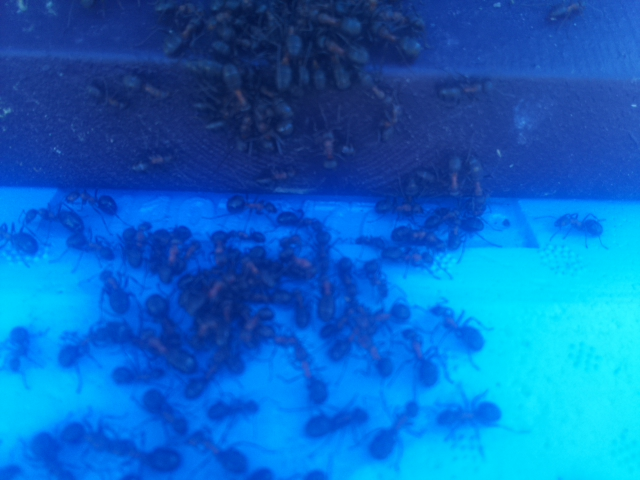ant: (364, 394, 426, 463), (431, 74, 488, 108)
